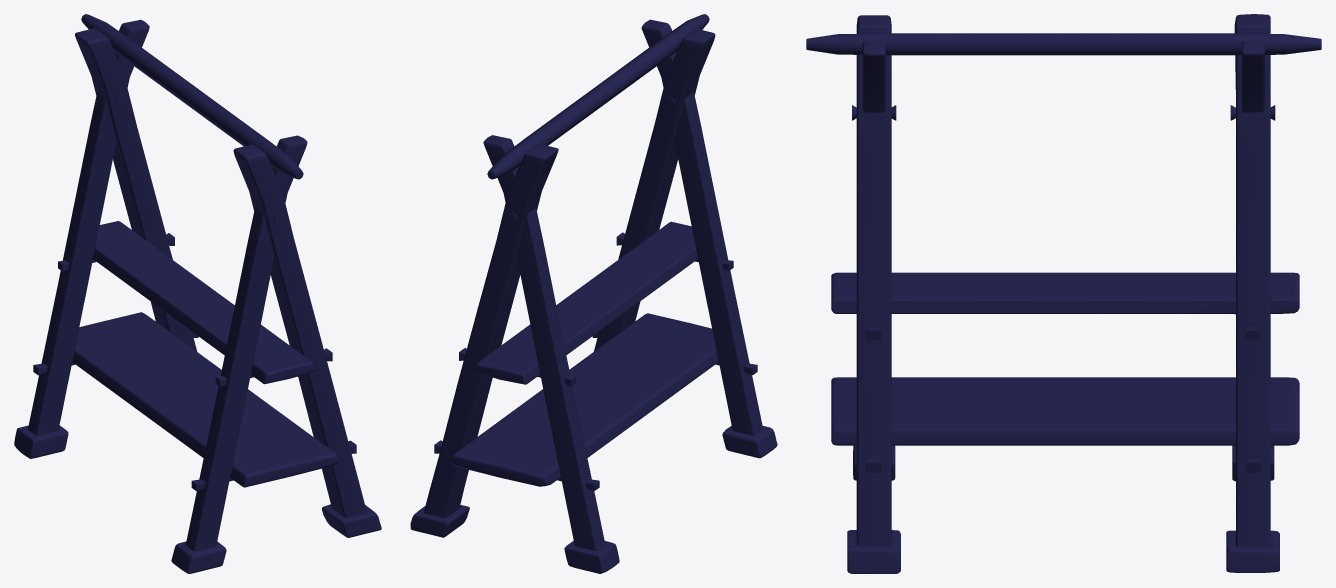
Rendered from SM_Support_01.fbx.
3 views of the same model, side by side, from view 1: azimuth 30°, elevation 25°; view 2: azimuth 150°, elevation 25°; view 3: azimuth 270°, elevation 25° (orthographic). The views are drawn at different scales.
Parts seen in each view (by area): view 1: SM_Support_wood_low; view 2: SM_Support_wood_low; view 3: SM_Support_wood_low.
Boxes of the visible parts, bbox=[...] form: SM_Support_wood_low: bbox=[14, 14, 381, 573]; SM_Support_wood_low: bbox=[410, 14, 777, 573]; SM_Support_wood_low: bbox=[806, 14, 1321, 573].
Bounding box in the file's own units: 220 × 114 × 228.
